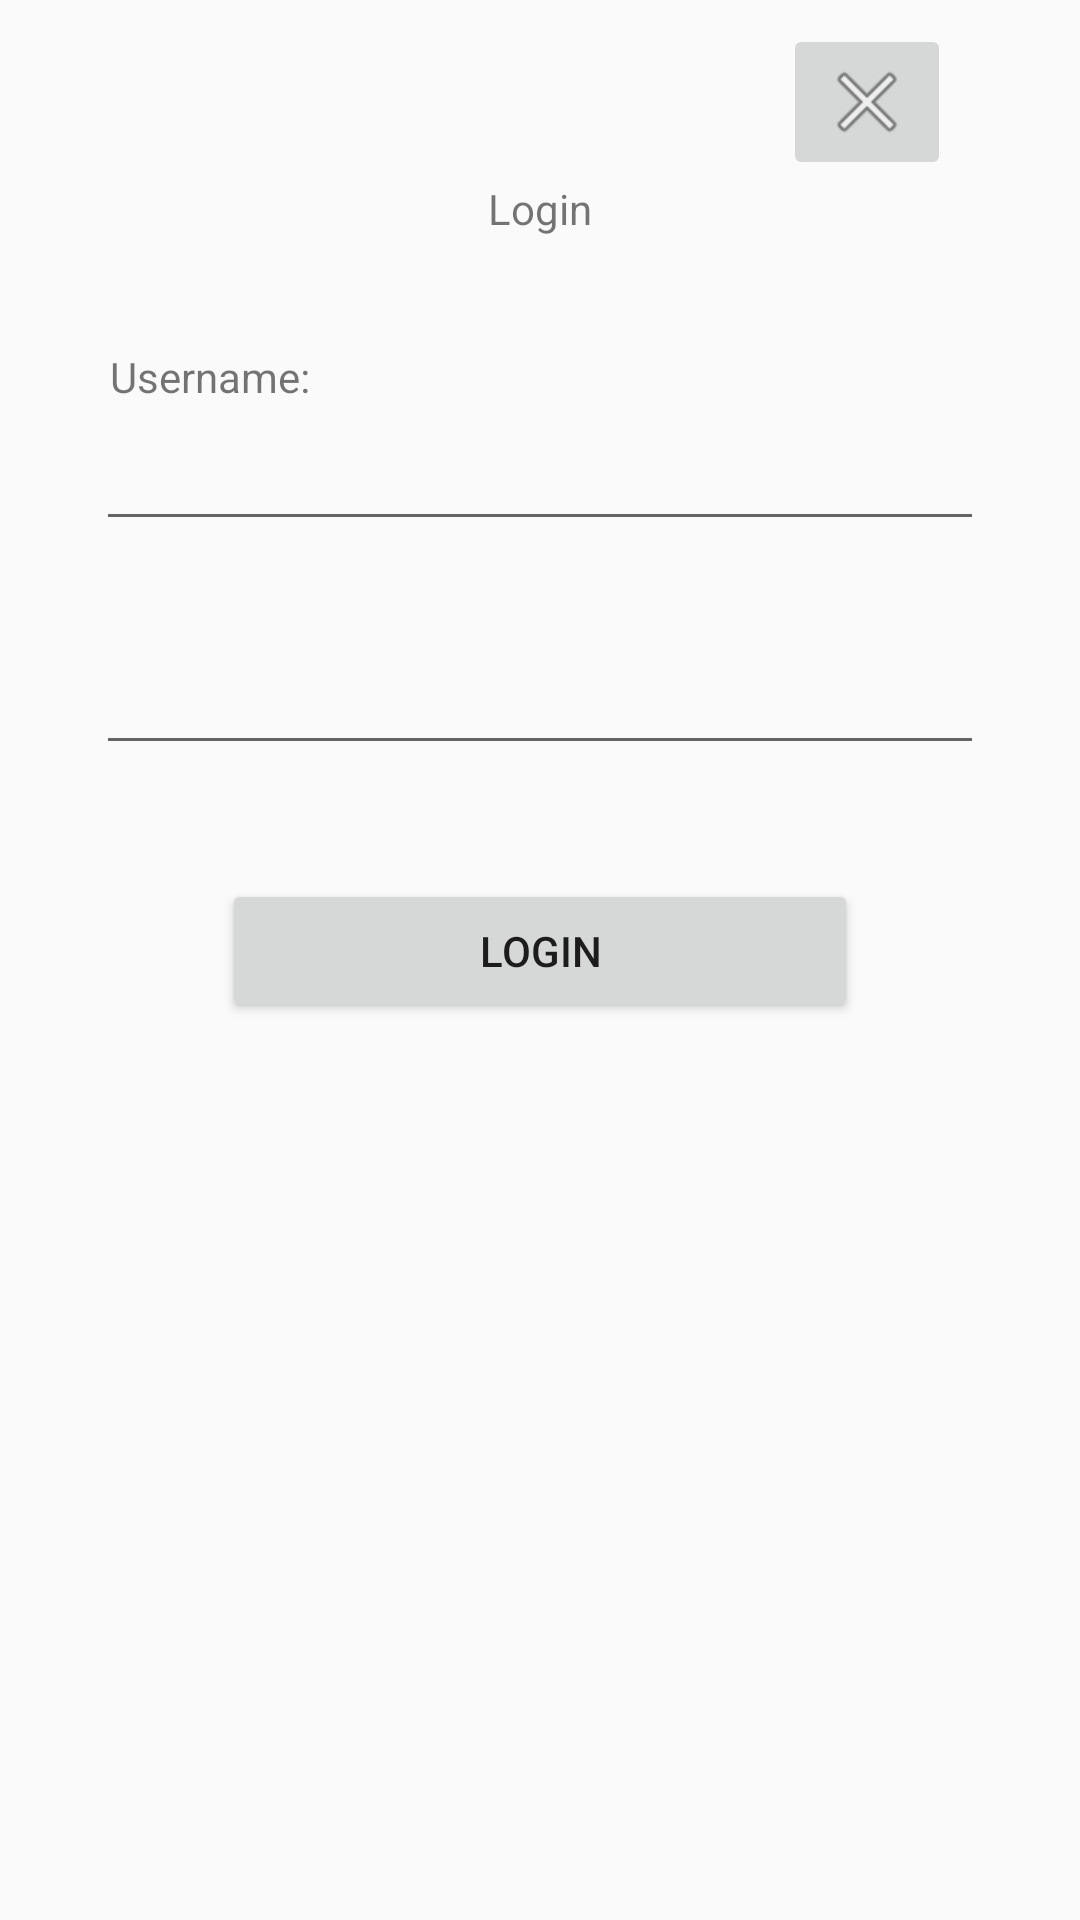

Icons on this 1080w x 1920h Android screen, each with the point to tap as point (x, y):
close clear cancel: point (867, 102)
